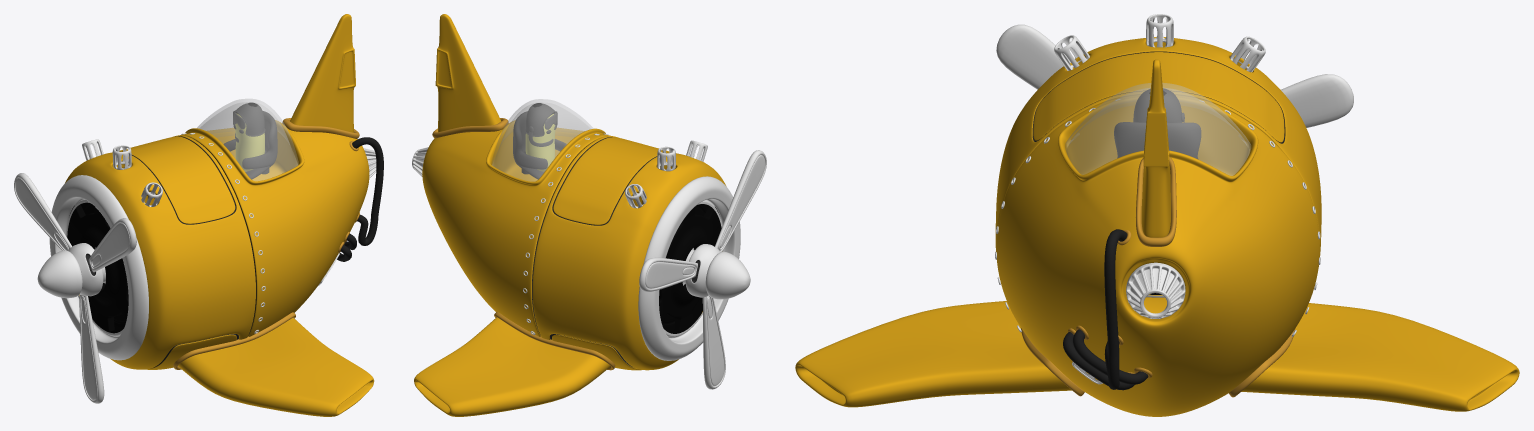
The model's file is cartoon-airplane.glb.
The picture shows the model from 3 angles, left to right: view 1: azimuth 30°, elevation 25°; view 2: azimuth 150°, elevation 25°; view 3: azimuth 270°, elevation 25°; orthographic projection. The views are drawn at different scales.
Visible parts, largest first — view 1: Cylinder_0, Circle.003_7, Cylinder.003_4, Circle_3, Cylinder.006_24, Plane.001_11, Circle.004_8, BezierCurve.005_36, Plane.006_31, Cube_30, Circle.002_6, Cube.001_25 (+4 smaller); view 2: Cylinder_0, Circle.003_7, Cylinder.003_4, Circle_3, Cylinder.006_24, Plane.001_11, Circle.004_8, Plane.006_31, Circle.002_6, Cube_30, Cylinder.002_2, Cube.001_25 (+3 smaller); view 3: Cylinder_0, Circle.003_7, Cylinder.006_24, Cylinder.003_4, Plane.001_11, Circle.001_5, BezierCurve.005_36, Plane.006_31, Cylinder.002_2, Plane.002_12, Circle.002_6, BezierCurve.004_35 (+3 smaller).
Part boxes in pixels (<box>): Cylinder_0: <box>65,120,369,369</box>; Circle.003_7: <box>178,317,374,416</box>; Cylinder.003_4: <box>14,173,136,403</box>; Circle_3: <box>49,175,148,360</box>; Cylinder.006_24: <box>197,99,298,180</box>; Plane.001_11: <box>290,14,355,132</box>; Circle.004_8: <box>69,204,128,331</box>; BezierCurve.005_36: <box>352,137,383,245</box>; Plane.006_31: <box>224,111,277,179</box>; Cube_30: <box>235,113,264,171</box>; Circle.002_6: <box>173,312,295,369</box>; Cube.001_25: <box>233,102,265,136</box>; Cylinder_0: <box>422,120,726,370</box>; Circle.003_7: <box>414,317,610,416</box>; Cylinder.003_4: <box>639,150,766,389</box>; Circle_3: <box>638,176,740,360</box>; Cylinder.006_24: <box>492,99,593,181</box>; Plane.001_11: <box>435,14,500,132</box>; Circle.004_8: <box>659,205,720,332</box>; Plane.006_31: <box>513,111,566,179</box>; Circle.002_6: <box>494,312,615,370</box>; Cube_30: <box>525,114,555,171</box>; Cylinder.002_2: <box>625,140,707,208</box>; Cube.001_25: <box>525,103,557,136</box>; Cylinder_0: <box>995,37,1321,416</box>; Circle.003_7: <box>795,301,1519,411</box>; Cylinder.006_24: <box>1065,83,1250,175</box>; Cylinder.003_4: <box>996,24,1353,127</box>; Plane.001_11: <box>1141,59,1170,237</box>; Circle.001_5: <box>1126,262,1185,318</box>; BezierCurve.005_36: <box>1104,229,1127,389</box>; Plane.006_31: <box>1114,122,1201,159</box>; Cylinder.002_2: <box>1054,35,1265,72</box>; Plane.002_12: <box>1135,157,1176,246</box>; Circle.002_6: <box>1020,327,1294,397</box>; BezierCurve.004_35: <box>1073,329,1148,384</box>.
Bounding box in the file's own units: 2.58 × 2.34 × 3.29.
